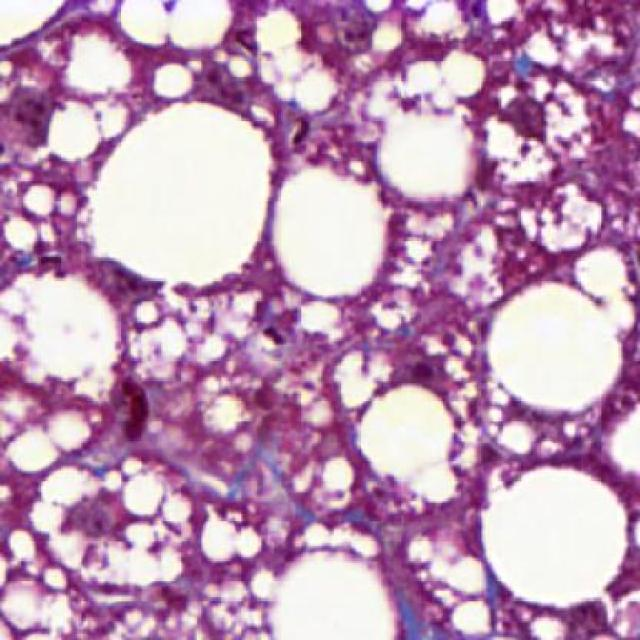steatosis: (89, 105, 268, 287), (483, 283, 629, 410), (269, 168, 389, 302)
